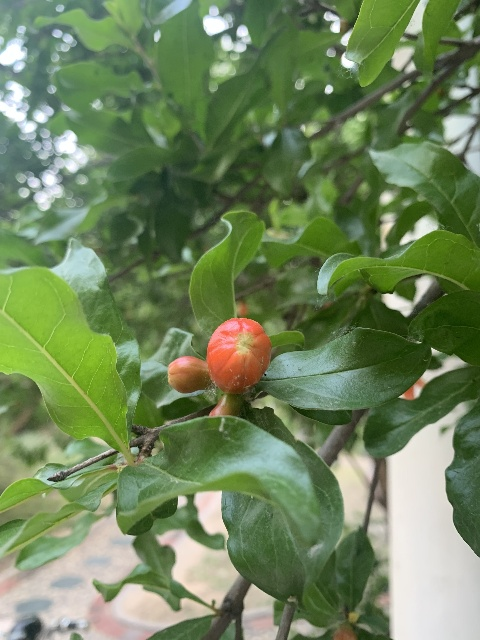bud: (206, 316, 271, 394), (168, 356, 208, 393)
